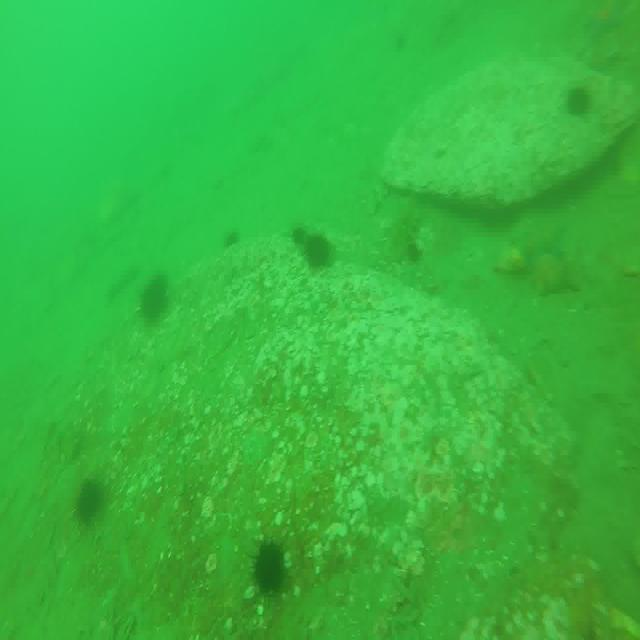echinus: (252, 535, 288, 590), (142, 269, 172, 325), (72, 476, 105, 526), (302, 232, 338, 273), (568, 85, 592, 116), (224, 229, 243, 249), (292, 226, 308, 246)
